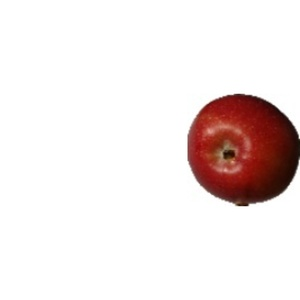maçã braeburn: (184, 91, 300, 206)
